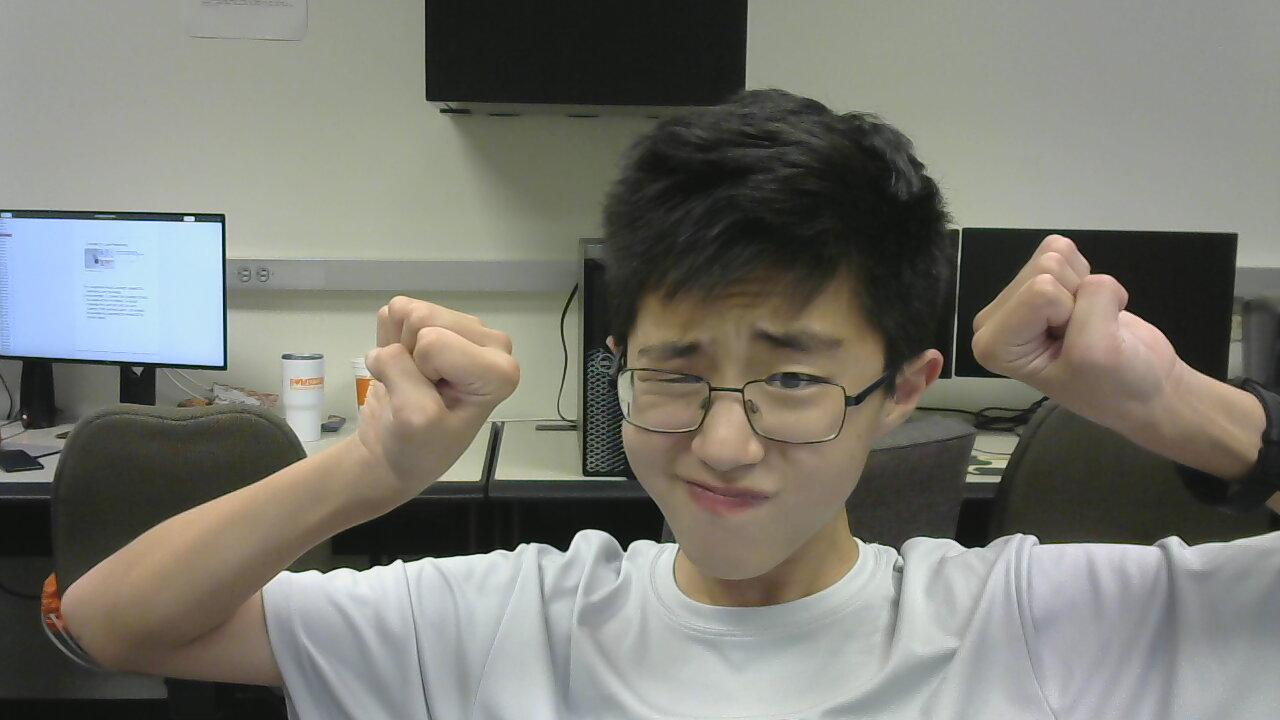fist: (963, 232, 1187, 423), (341, 282, 542, 488)
